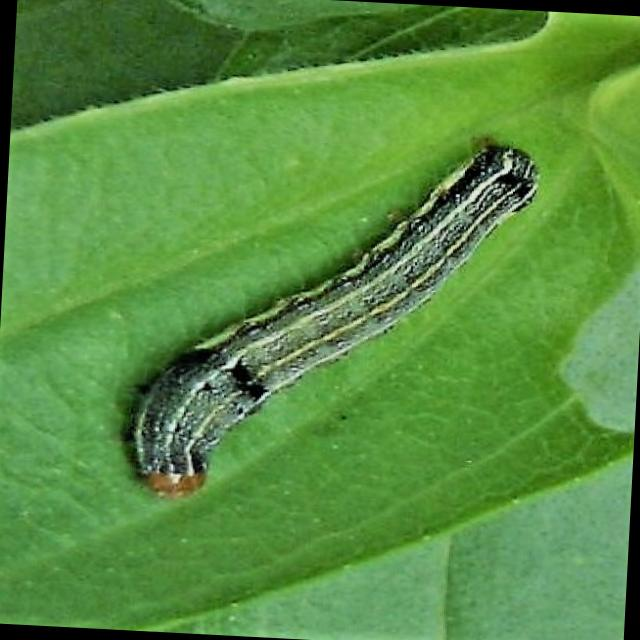Armyworm: (72, 103, 576, 531)
